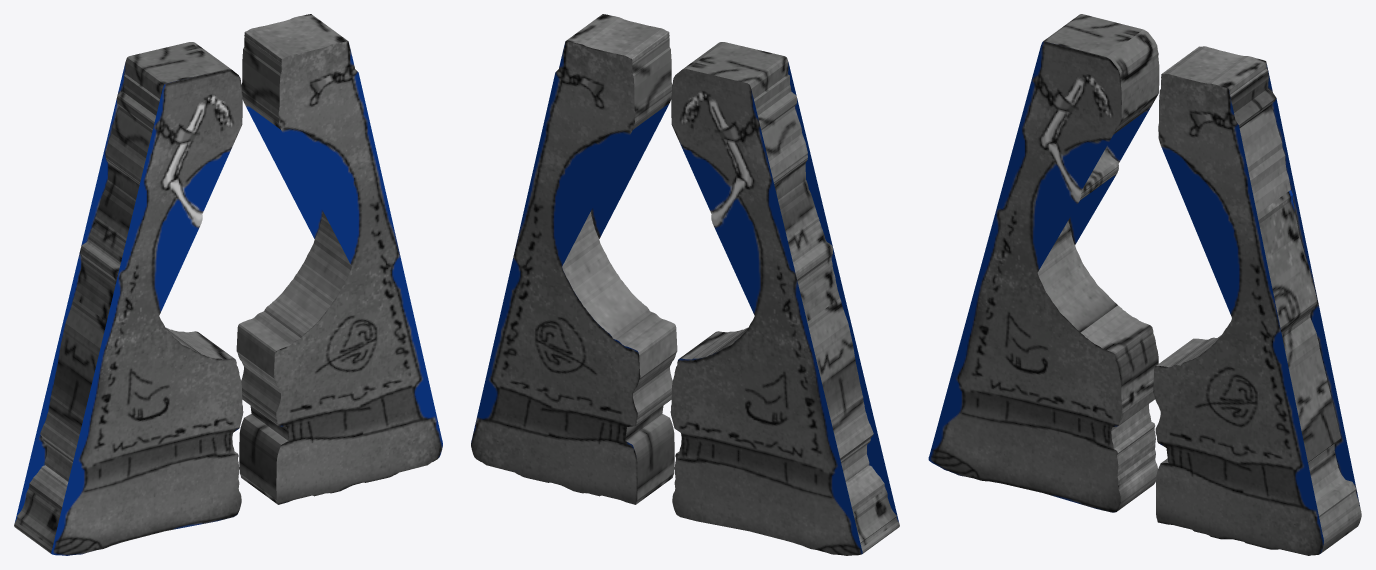
File: Altar.fbx
3 views of the same model, side by side, from view 1: azimuth 30°, elevation 25°; view 2: azimuth 150°, elevation 25°; view 3: azimuth 330°, elevation 25° (orthographic).
Visible parts, largest first — view 1: altar; view 2: altar; view 3: altar.
Boxes of the visible parts, <box> form: altar: <box>14,14,442,555</box>; altar: <box>471,14,899,555</box>; altar: <box>928,14,1361,555</box>.
Bounding box in the file's own units: 85.2 × 93.65 × 14.
